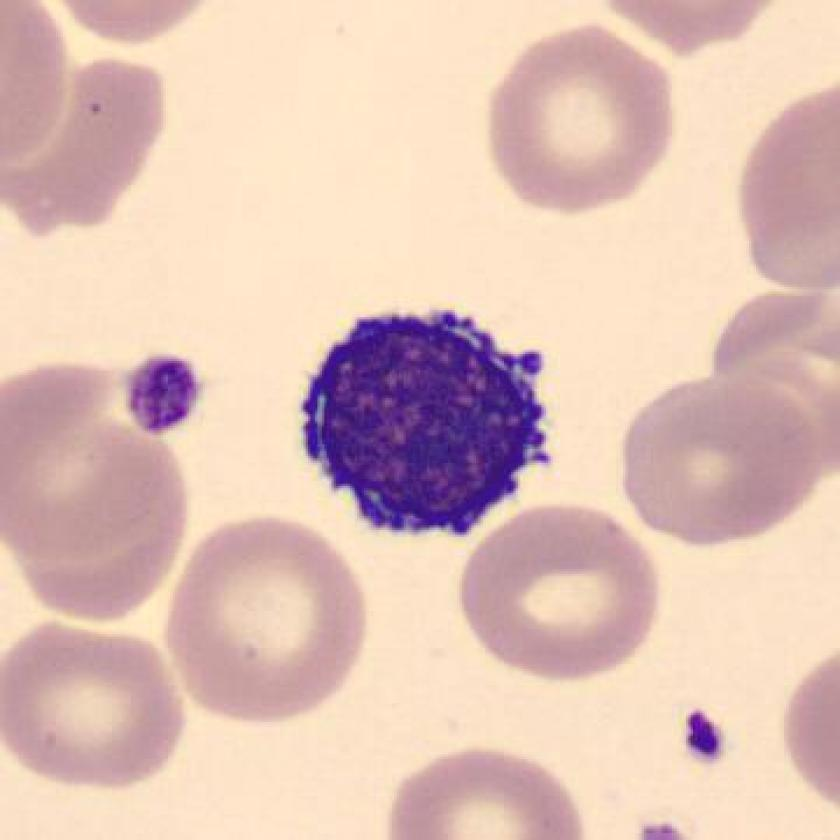lymphocyte: (279, 290, 568, 561)
